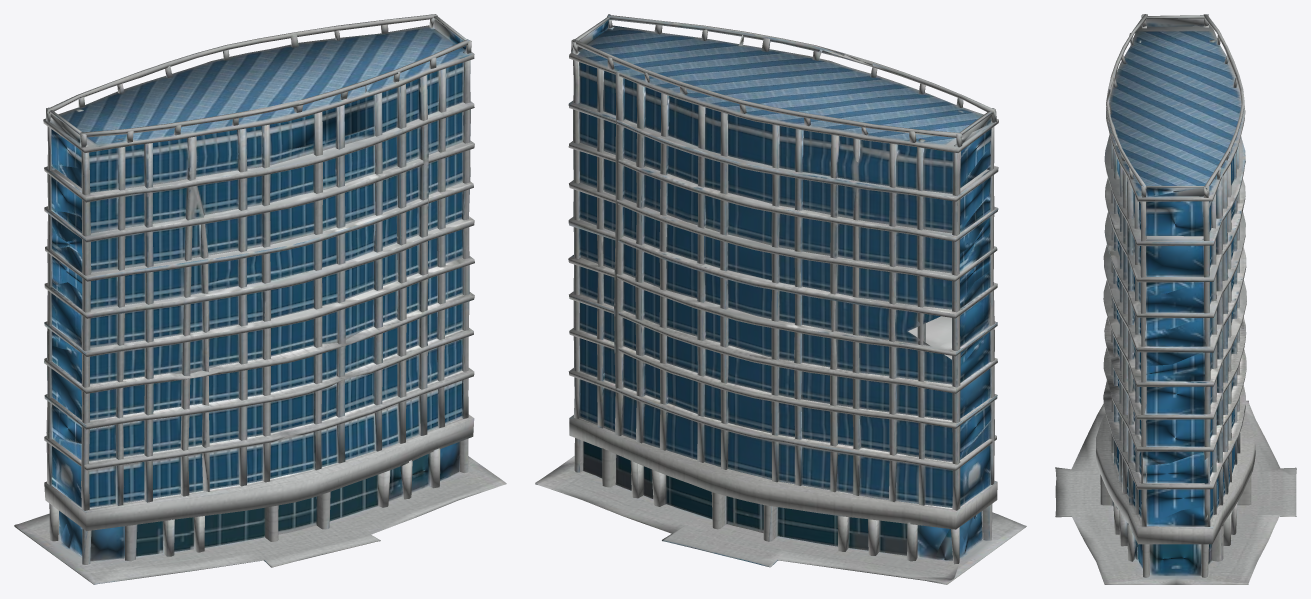
The model's file is meshy-city-office.glb.
The picture shows the model from 3 angles, left to right: view 1: azimuth 30°, elevation 25°; view 2: azimuth 150°, elevation 25°; view 3: azimuth 270°, elevation 25°; orthographic projection. The views are drawn at different scales.
Bounding box in the file's own units: 1 × 1 × 0.5589.
Materials: 1 (1 with a texture image).
